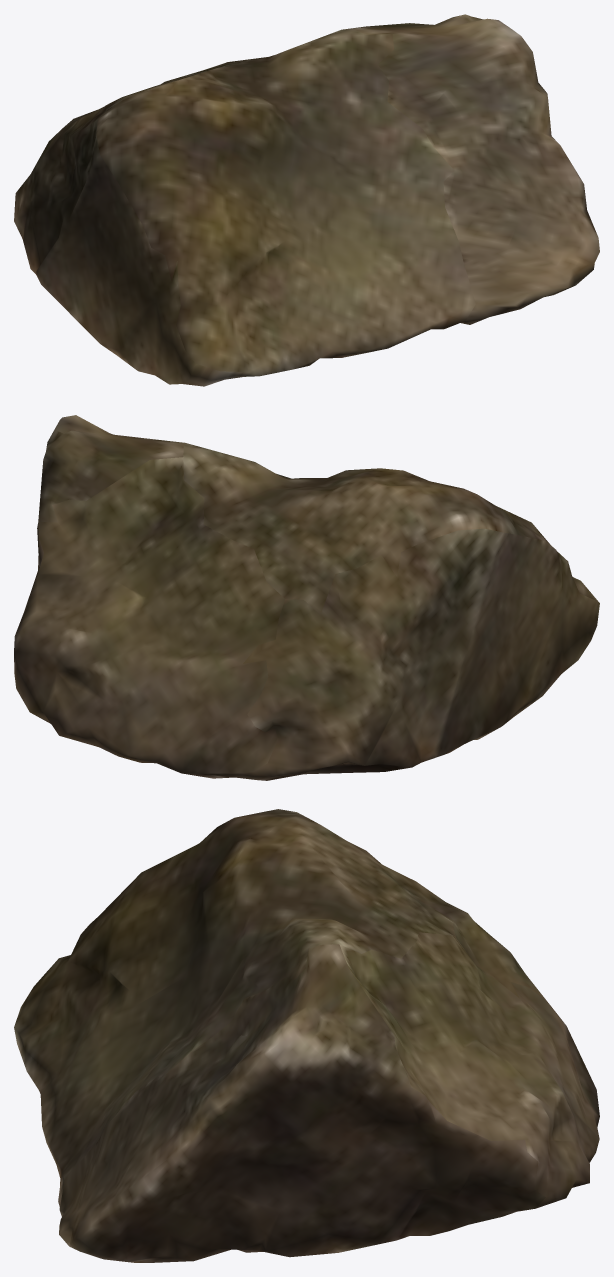
File: rock_moss_set_01_2.glb
The picture shows the model from 3 angles, top to bottom: view 1: azimuth 30°, elevation 25°; view 2: azimuth 150°, elevation 25°; view 3: azimuth 270°, elevation 25°; orthographic projection. The views are drawn at different scales.
Bounding box in the file's own units: 2.11 × 1.09 × 2.08.
Materials: 1 (1 with a texture image).
